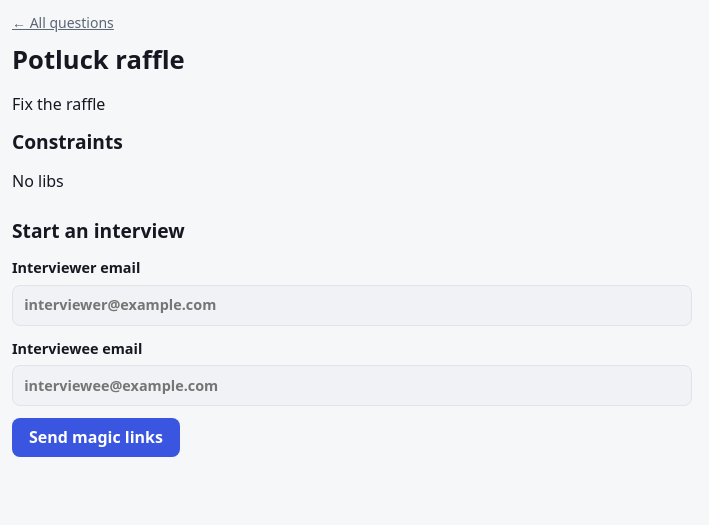
QuestionPage › surfaces server errors such as 429
This screenshot has width=709, height=525.
Expected: the heading "Potluck raffle" is shown, [12,42,185,77]
Type "a@example.com" into the field labelled "Interviewer email". click: x=352, y=305
box: [12,284,692,326]
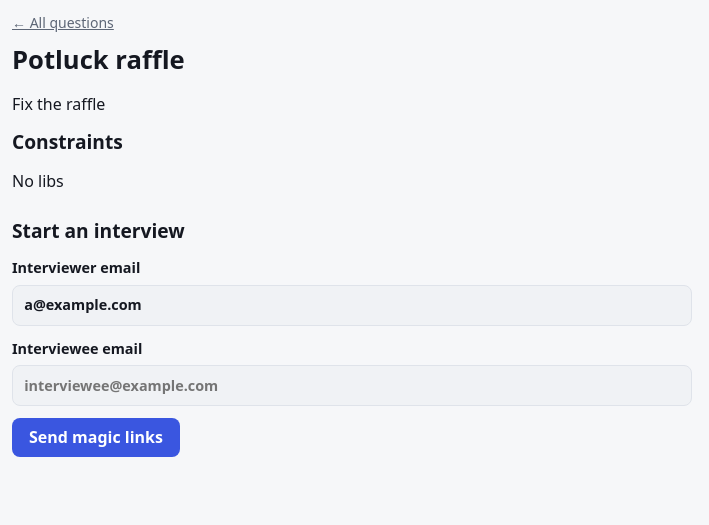
Type "b@example.com" into the field labelled "Interviewee email". click: x=352, y=386
box: [12,365,692,406]
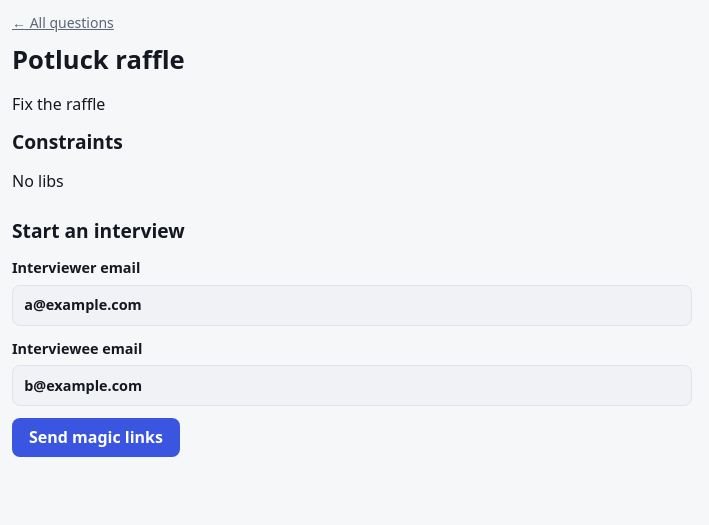
Click the button "Send magic links". click: x=96, y=437
box: [12,418,180,457]
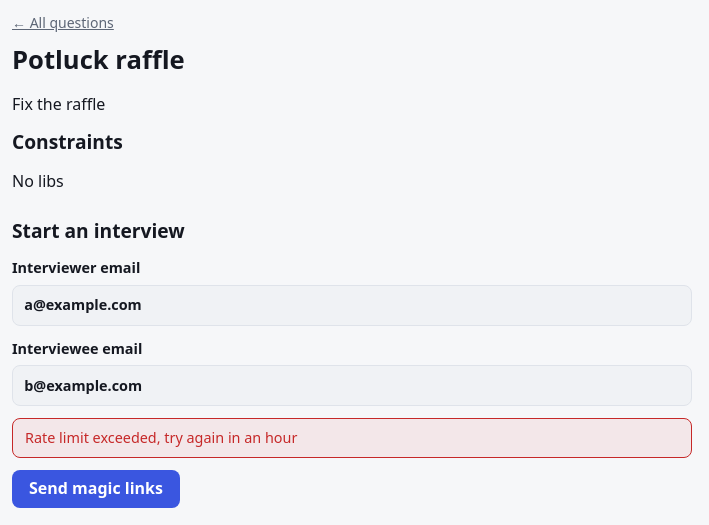
Expected: the button "Send magic links" is shown, [12,470,180,508]
Result: the message shows "Rate limit exceeded" at [25,428,297,447]
